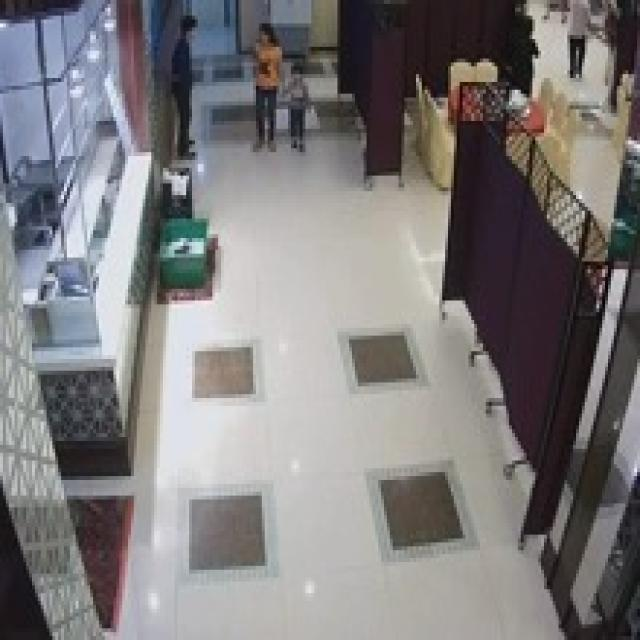Normal: (157, 9, 214, 166), (245, 5, 290, 136), (284, 34, 322, 138)
